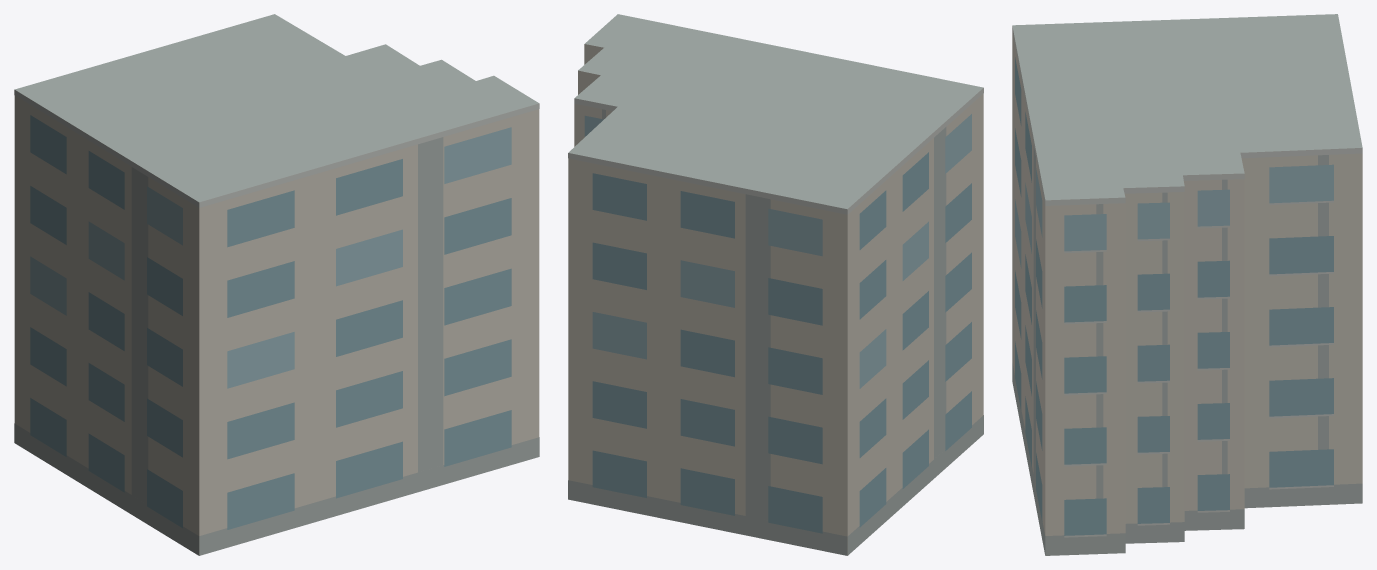
Rendered from survey-upis-32907119.glb.
The picture shows the model from 3 angles, left to right: view 1: azimuth 30°, elevation 25°; view 2: azimuth 150°, elevation 25°; view 3: azimuth 270°, elevation 25°; orthographic projection. The views are drawn at different scales.
Visible parts, largest first — view 1: survey-upis-32907119.tmp; view 2: survey-upis-32907119.tmp; view 3: survey-upis-32907119.tmp.
Boxes of the visible parts, box(x1,y1,x2,y2) form: survey-upis-32907119.tmp: box(14, 14, 539, 555); survey-upis-32907119.tmp: box(568, 14, 983, 555); survey-upis-32907119.tmp: box(1012, 14, 1362, 555).
Size of the model in its own units: 17.15 by 15.25 by 13.63.
